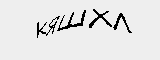К: (33, 19, 47, 40)
Л: (111, 11, 132, 38)
Х: (89, 6, 112, 33)
Ш: (57, 6, 90, 32)
Я: (44, 12, 61, 38)
